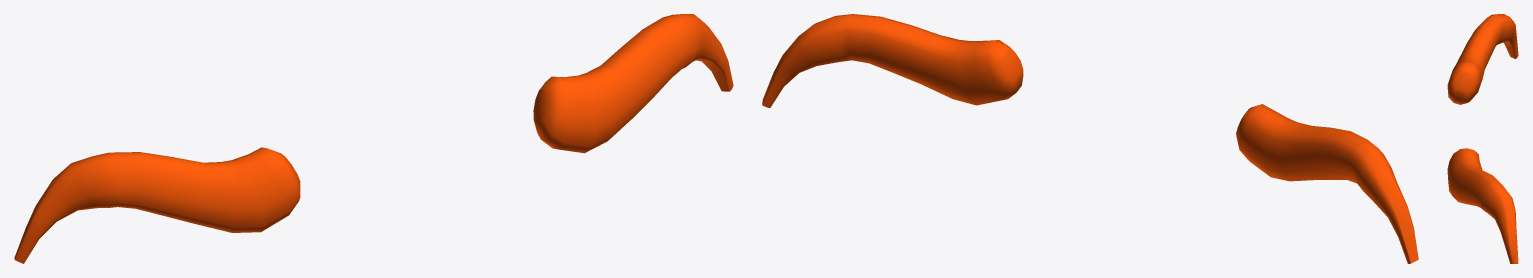
File: Eyebrows_28_06.fbx
The picture shows the model from 3 angles, left to right: view 1: azimuth 30°, elevation 25°; view 2: azimuth 150°, elevation 25°; view 3: azimuth 270°, elevation 25°; orthographic projection. The views are drawn at different scales.
Parts seen in each view (by area): view 1: Eyebrows_28_06; view 2: Eyebrows_28_06; view 3: Eyebrows_28_06.
Part boxes in pixels (box(x1,y1,x2,y2)): Eyebrows_28_06: box(14, 14, 733, 263); Eyebrows_28_06: box(762, 14, 1418, 263); Eyebrows_28_06: box(1447, 14, 1518, 263).
Bounding box in the file's own units: 18.81 × 2.62 × 2.68.
